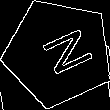N_SW: (27, 24, 90, 82)
